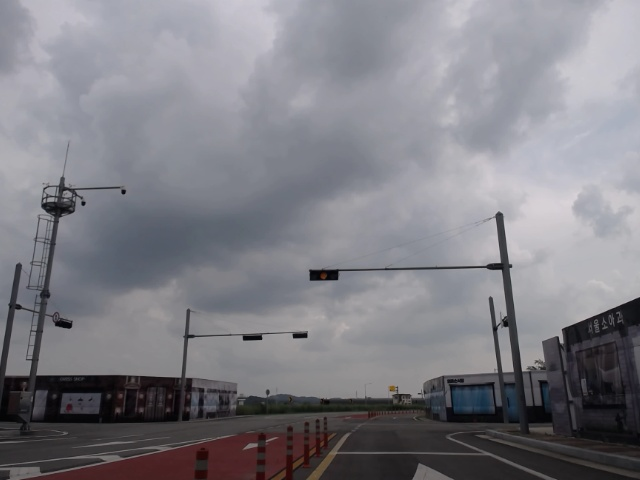orange_3: (310, 269, 338, 280)
